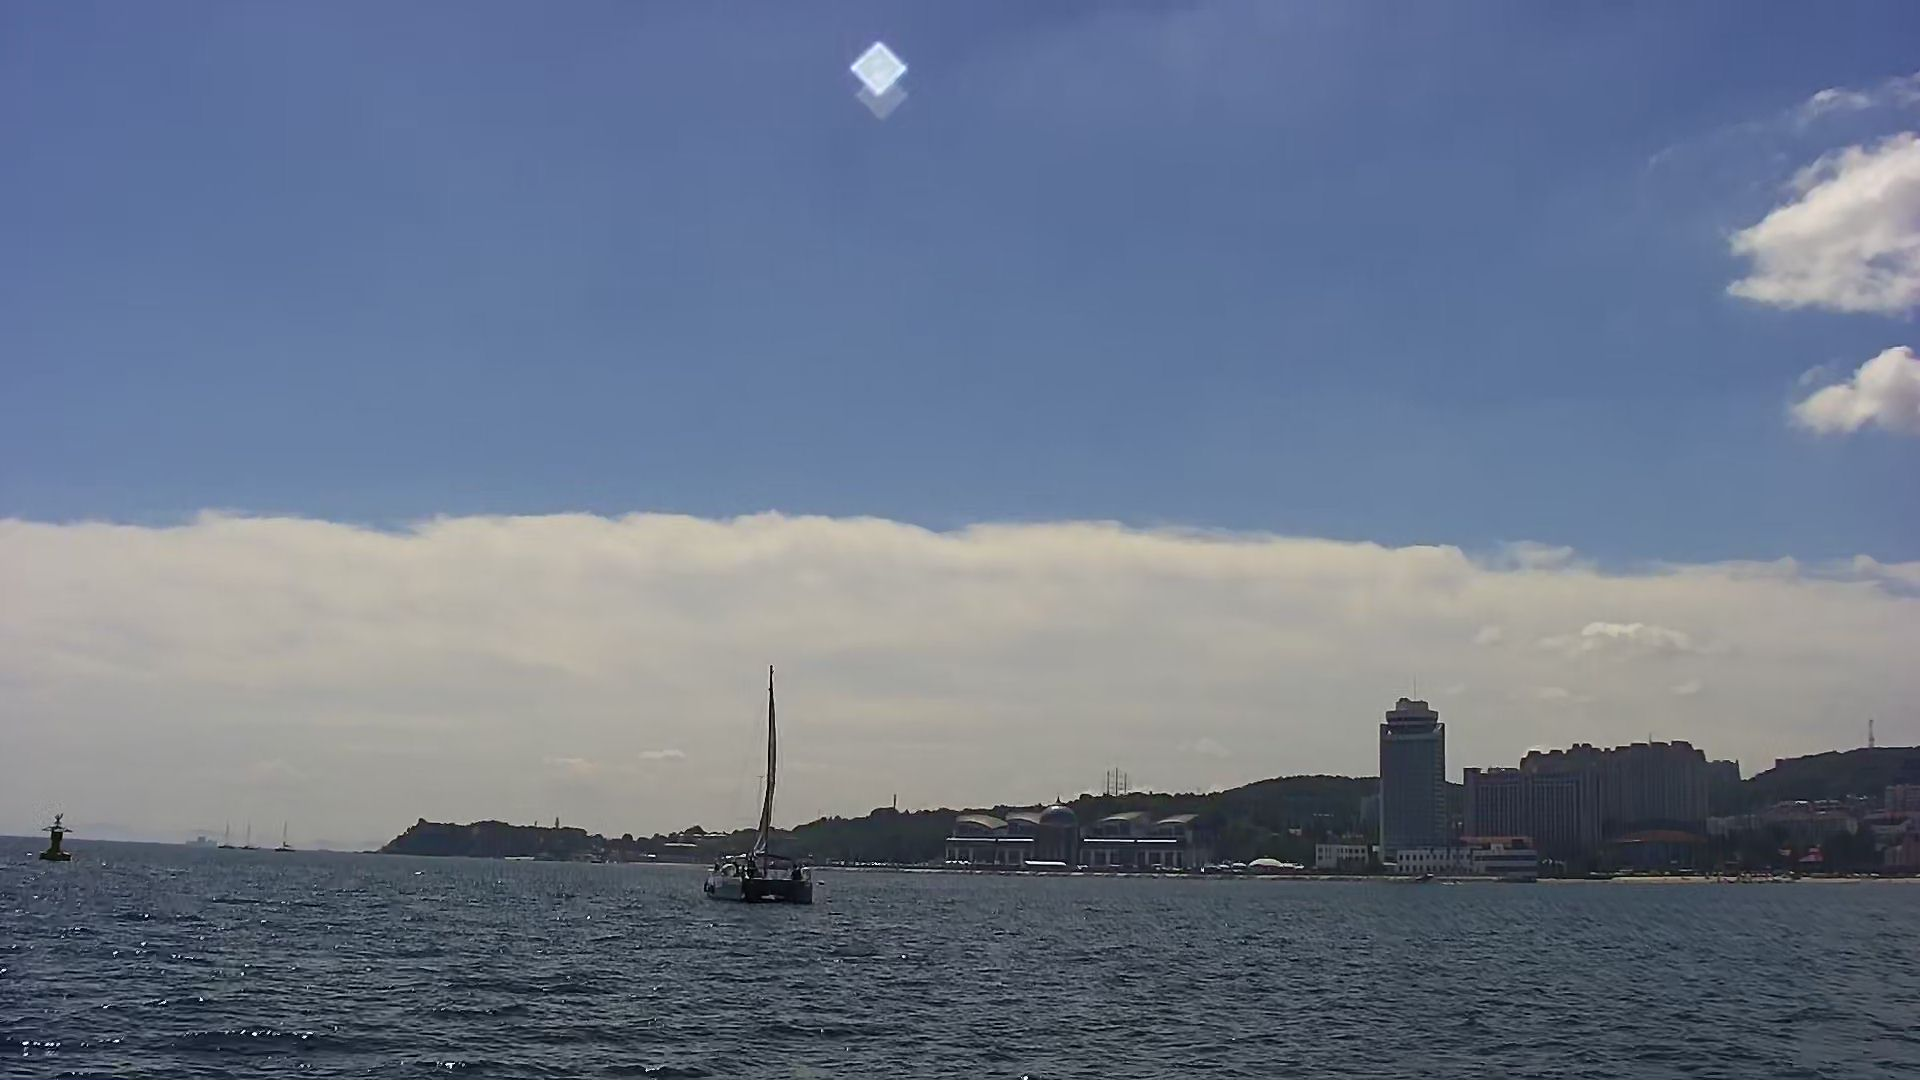boat: (704, 663, 810, 906)
buoy: (34, 812, 74, 861)
